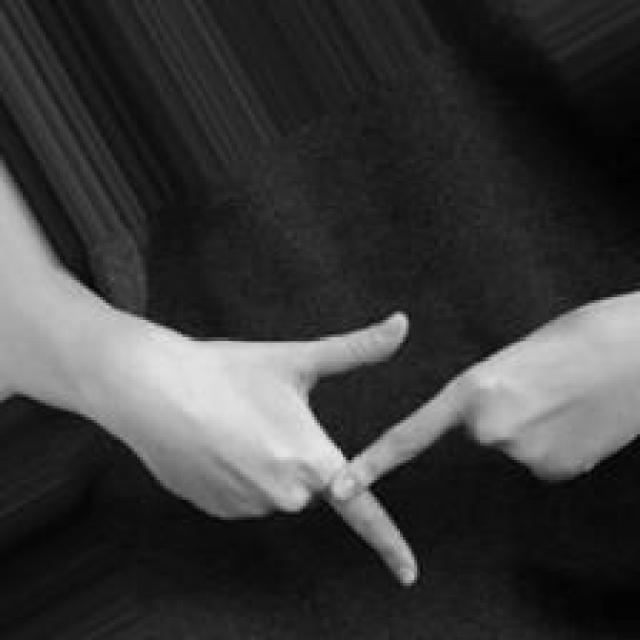F: (143, 310, 640, 590)
